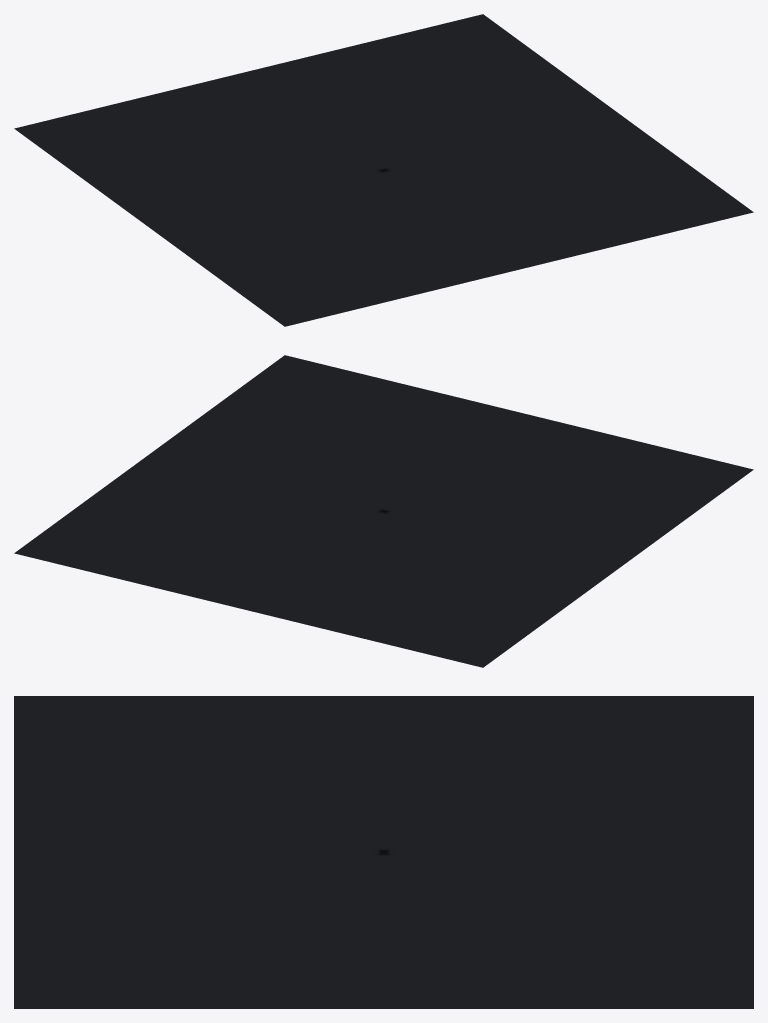
The model's file is groundPlane_01.glb.
The picture shows the model from 3 angles, top to bottom: view 1: azimuth 30°, elevation 25°; view 2: azimuth 150°, elevation 25°; view 3: azimuth 270°, elevation 25°; orthographic projection. The views are drawn at different scales.
Visible parts, largest first — view 1: ground; view 2: ground; view 3: ground.
Boxes of the visible parts, <box> form: ground: <box>14,14,753,326</box>; ground: <box>14,355,753,667</box>; ground: <box>14,696,753,1008</box>.
Bounding box in the file's own units: 25.67 × 0 × 25.67.
Materials: 1 (1 with a texture image).
